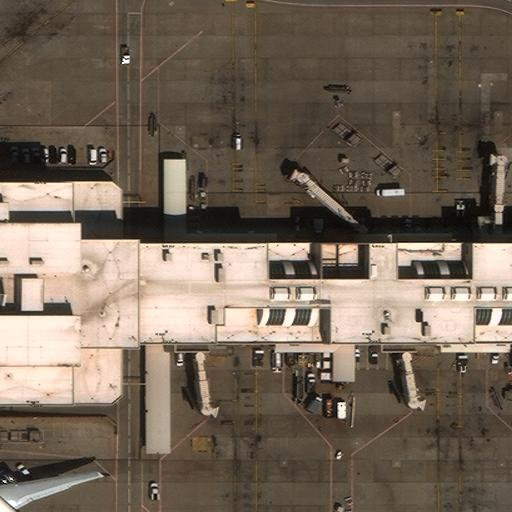Large Civil Transport: (0, 455, 98, 512)
